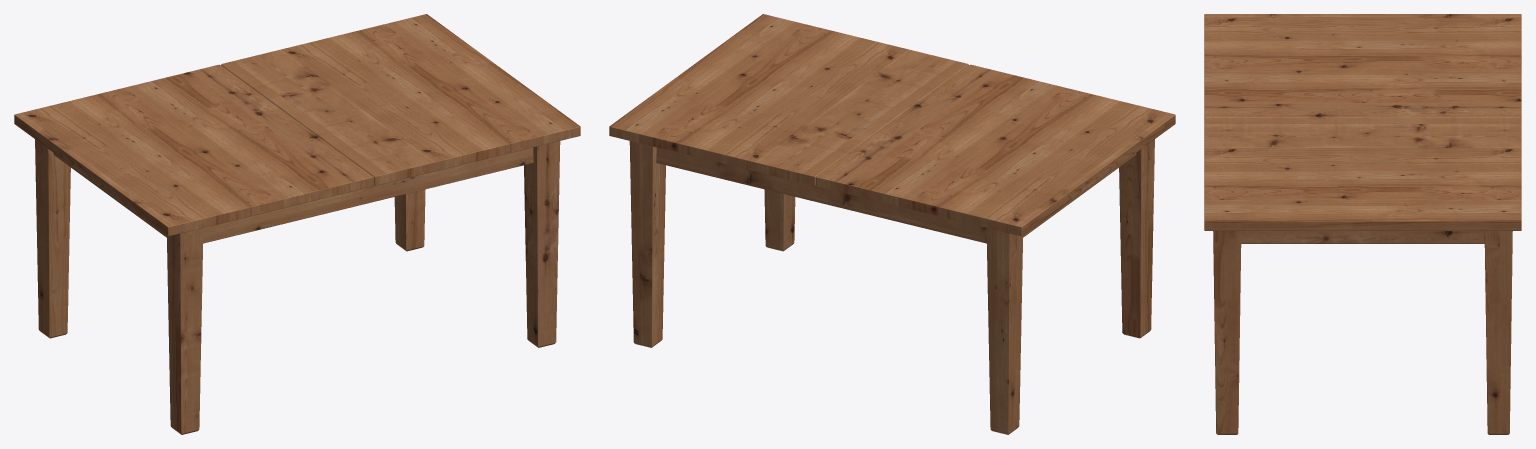
File: stornas_sto_rozkadany_40176846.glb
3 renders of one model, left to right at view 1: azimuth 30°, elevation 25°; view 2: azimuth 150°, elevation 25°; view 3: azimuth 270°, elevation 25°, orthographic. The views are drawn at different scales.
Visible parts, largest first — view 1: stornas_sto_rozkadany_40176846; view 2: stornas_sto_rozkadany_40176846; view 3: stornas_sto_rozkadany_40176846.
Boxes of the visible parts, <box> form: stornas_sto_rozkadany_40176846: <box>14,14,580,434</box>; stornas_sto_rozkadany_40176846: <box>609,14,1175,434</box>; stornas_sto_rozkadany_40176846: <box>1204,14,1521,434</box>.
Bounding box in the file's own units: 1.47 × 0.7399 × 0.95.
Materials: 1 (1 with a texture image).
